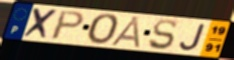A: (108, 15, 143, 49)
J: (179, 23, 208, 52)
O: (86, 13, 122, 47)
P: (49, 9, 87, 41)
S: (147, 18, 178, 51)
X: (21, 7, 61, 41)
